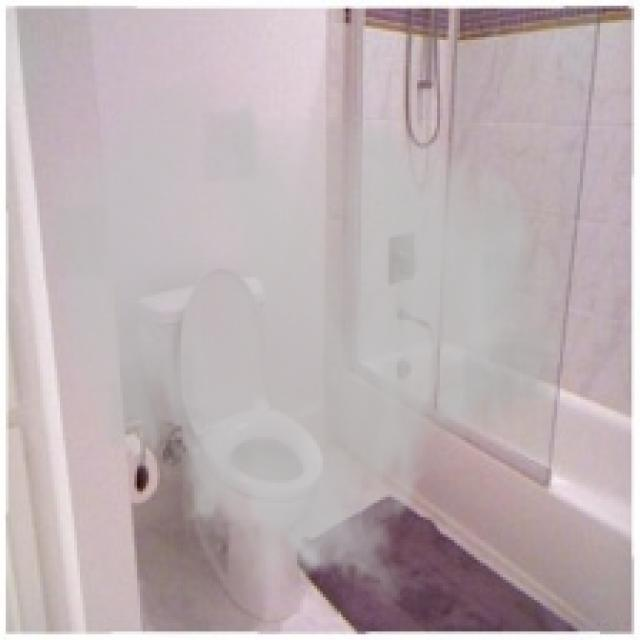Smoke: (37, 71, 569, 608)
